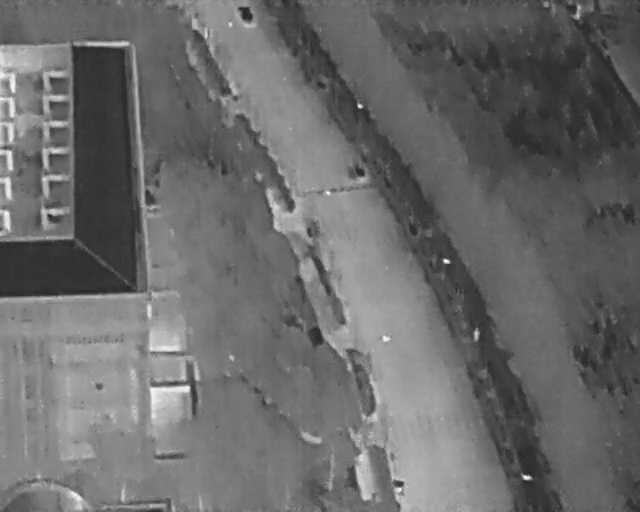Car: (235, 2, 257, 28)
Person: (474, 327, 480, 340)
